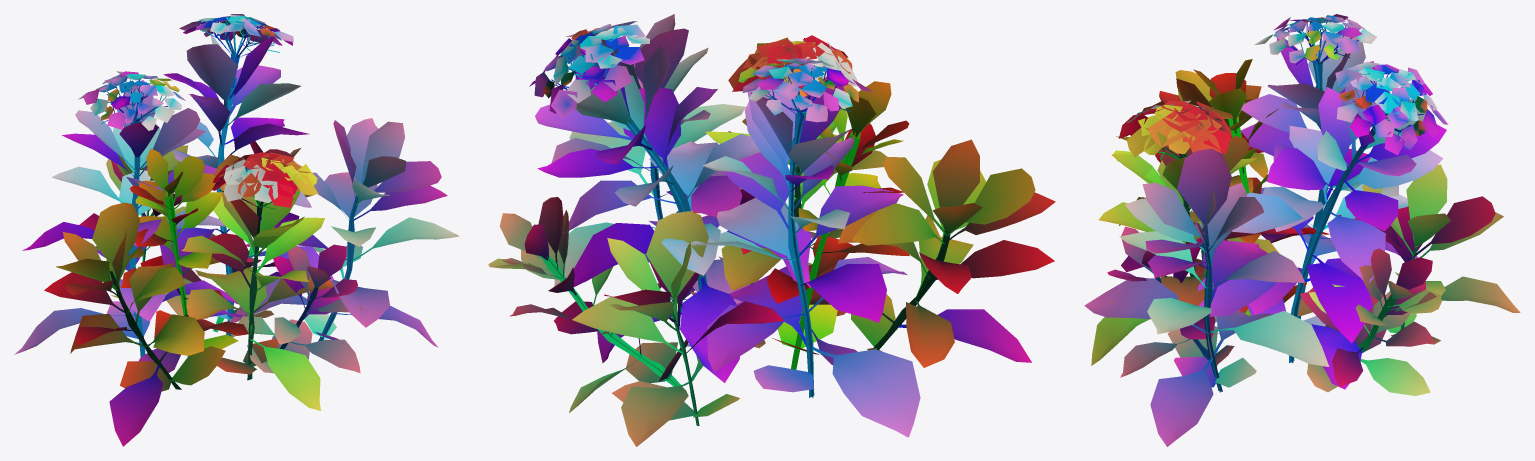
Rendered from Bigleaf_Hydrangea_vgztealha_Mid_vgztealha_VarE_LOD1.fbx.
3 views of the same model, side by side, from view 1: azimuth 30°, elevation 25°; view 2: azimuth 150°, elevation 25°; view 3: azimuth 270°, elevation 25° (orthographic). The views are drawn at different scales.
Visible parts, largest first — view 1: _5cmk_VarE_LOD3; view 2: _5cmk_VarE_LOD3; view 3: _5cmk_VarE_LOD3.
Part boxes in pixels (x1,y1,x2,y2): _5cmk_VarE_LOD3: (14, 14, 459, 446); _5cmk_VarE_LOD3: (488, 14, 1055, 446); _5cmk_VarE_LOD3: (1084, 14, 1520, 446).
Size of the model in its own units: 78.19 by 56.87 by 69.82.
